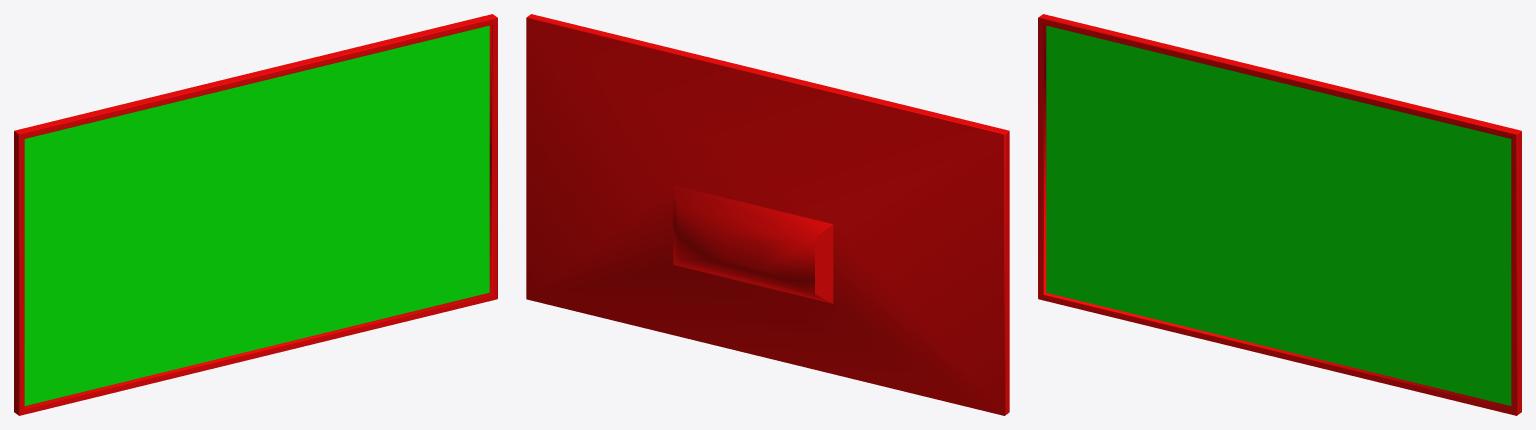
File: Mesh_Monitor.FBX
3 views of the same model, side by side, from view 1: azimuth 30°, elevation 25°; view 2: azimuth 150°, elevation 25°; view 3: azimuth 330°, elevation 25° (orthographic).
Parts seen in each view (by area): view 1: Default; view 2: Default; view 3: Default.
Boxes of the visible parts, left/top/right/bottom form: Default: left=14, top=14, right=497, bottom=415; Default: left=526, top=14, right=1009, bottom=415; Default: left=1038, top=14, right=1521, bottom=415.
Bounding box in the file's own units: 113 × 63.81 × 10.82.
